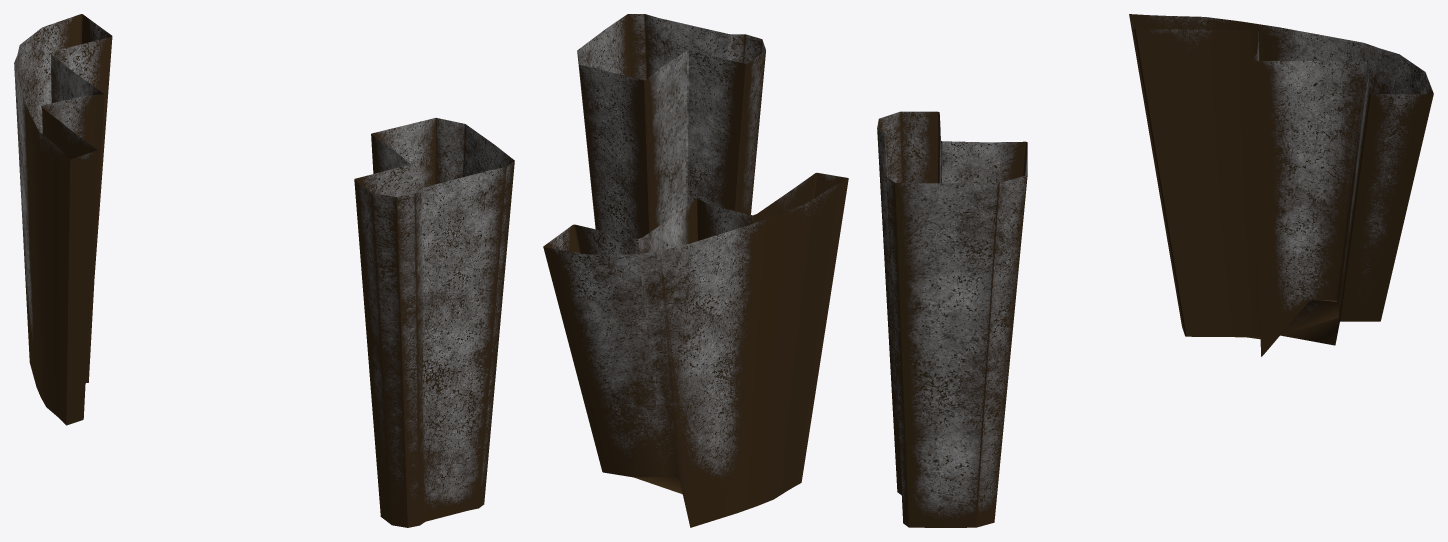
File: barranco.obj
3 renders of one model, left to right at view 1: azimuth 30°, elevation 25°; view 2: azimuth 150°, elevation 25°; view 3: azimuth 270°, elevation 25°, orthographic. The views are drawn at different scales.
Visible parts, largest first — view 1: barrancos; view 2: barrancos; view 3: barrancos.
Part boxes in pixels (x1,y1,x2,y2): barrancos: (14, 14, 514, 527); barrancos: (543, 14, 848, 527); barrancos: (877, 14, 1433, 527).
Size of the model in its own units: 249 by 245 by 346.
